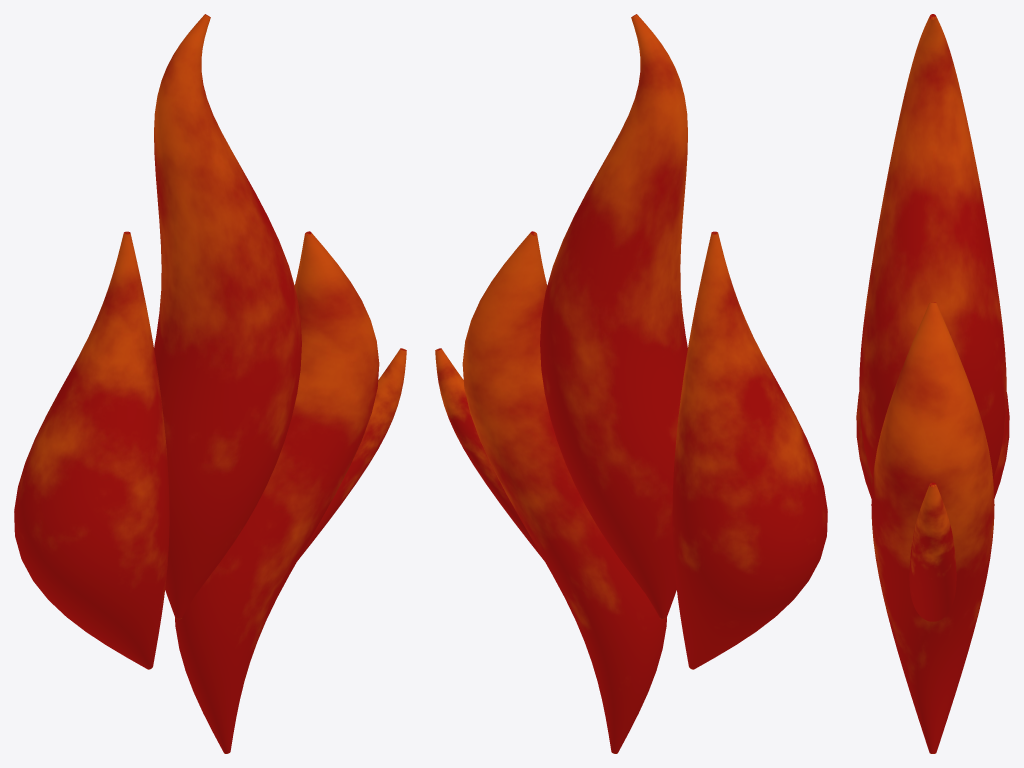
The model's file is StatueBurnify.glb.
The picture shows the model from 3 angles, left to right: view 1: azimuth 30°, elevation 25°; view 2: azimuth 150°, elevation 25°; view 3: azimuth 270°, elevation 25°; orthographic projection.
Parts seen in each view (by area): view 1: Burnify; view 2: Burnify; view 3: Burnify.
Part boxes in pixels (box(x1,y1,x2,y2)): Burnify: box(14, 14, 406, 753); Burnify: box(435, 14, 827, 753); Burnify: box(856, 14, 1009, 753).
Bounding box in the file's own units: 0.5286 × 0.984 × 0.1872.
1 material, 1 textured.
